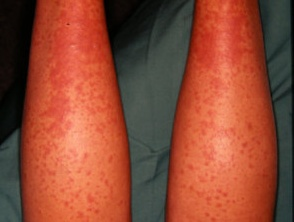SJS-TEN: (16, 0, 135, 222), (163, 0, 279, 222)
